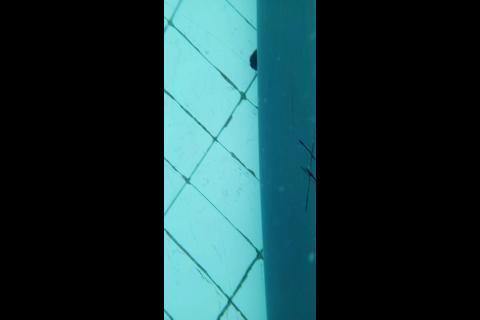keretakan: (298, 135, 315, 213)
